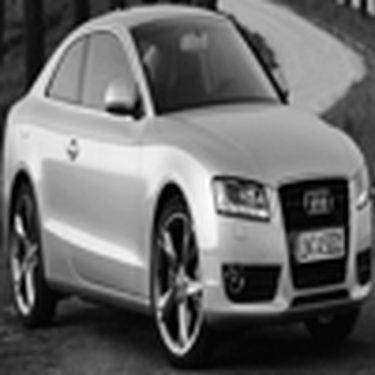car: (4, 4, 371, 372)
